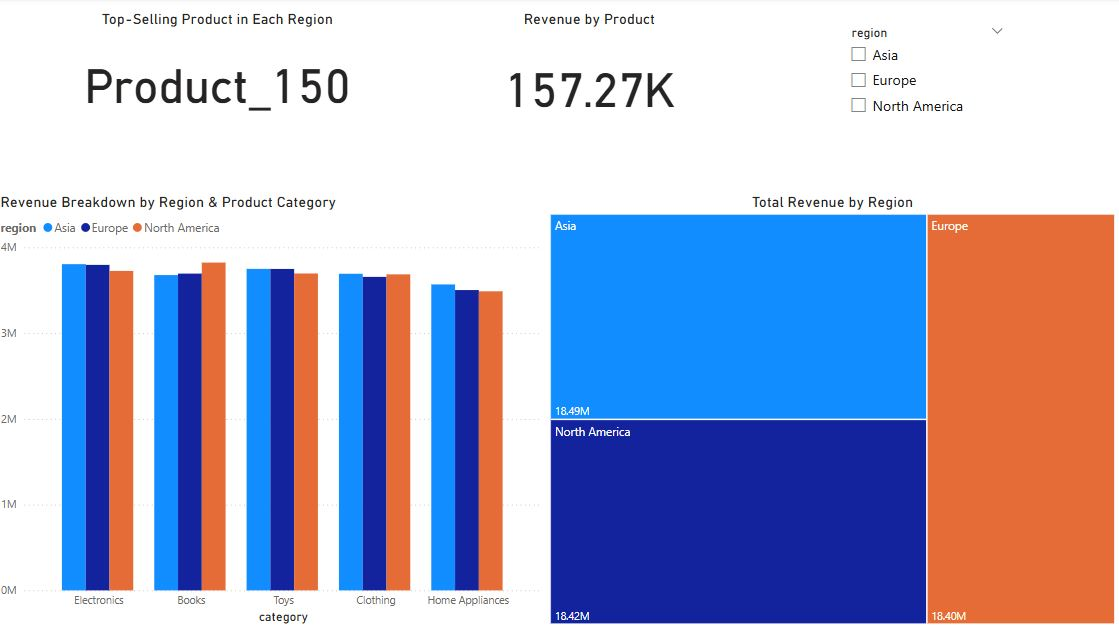

What the dashboard file says about the page in this screenshot:
{"tool":"powerbi","page":{"name":"Region","canvas":[1280,720],"ordinal":5},"visuals":[{"type":"treemap","title":"Total Revenue by Region","fields":{"Group":["revperregion.region"],"Values":["Sum(revperregion.total_revenue)"]},"box":[627.1,222.3,652.9,496.1],"z":0},{"type":"card","title":"Top-Selling Product in Each Region","fields":{"Values":["Min(topproductperregion.product_id)"]},"box":[33,13.7,438.2,141.4],"z":1000},{"type":"card","title":"Revenue by Product","fields":{"Values":["Sum(topproductperregion.total_revenue)"]},"box":[457.1,13.7,438.2,150.4],"z":2000},{"type":"slicer","fields":{"Values":["topproductperregion.region"]},"box":[961.3,25.7,197.9,124.7],"z":3000},{"type":"clusteredColumnChart","title":"Revenue Breakdown by Region & Product Category","fields":{"Category":["regioncategory.category"],"Series":["regioncategory.region"],"Y":["Sum(regioncategory.total_revenue)"]},"box":[0,222.3,627.1,496.1],"z":4000}]}

Visuals, with their boxes in screenshot pixels (x1, y1, x2, y2), scaled from the page's 1280x720 canvas onto the 1119x628 screenshot:
"Total Revenue by Region" treemap: (x1=548, y1=194, x2=1118, y2=627)
"Top-Selling Product in Each Region" card: (x1=29, y1=12, x2=412, y2=135)
"Revenue by Product" card: (x1=400, y1=12, x2=783, y2=143)
slicer - topproductperregion.region: (x1=840, y1=22, x2=1013, y2=131)
"Revenue Breakdown by Region & Product Category" clusteredColumnChart: (x1=0, y1=194, x2=548, y2=627)
